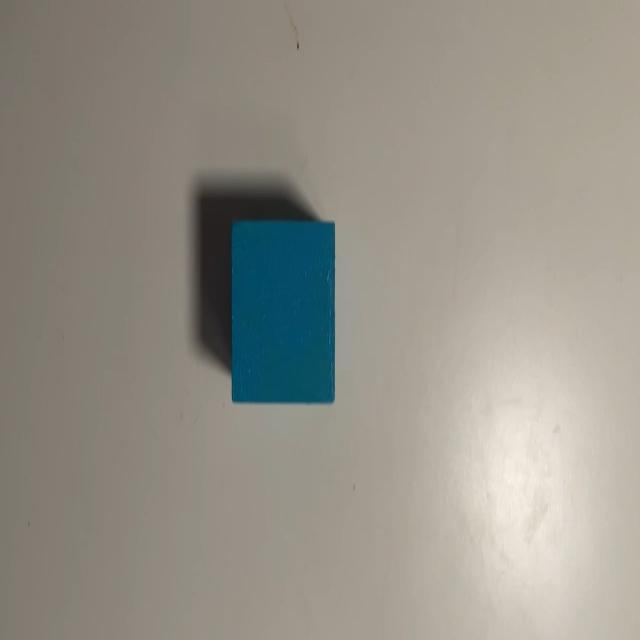blue_block: (230, 221, 337, 406)
